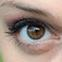eye: (26, 25, 46, 40)
